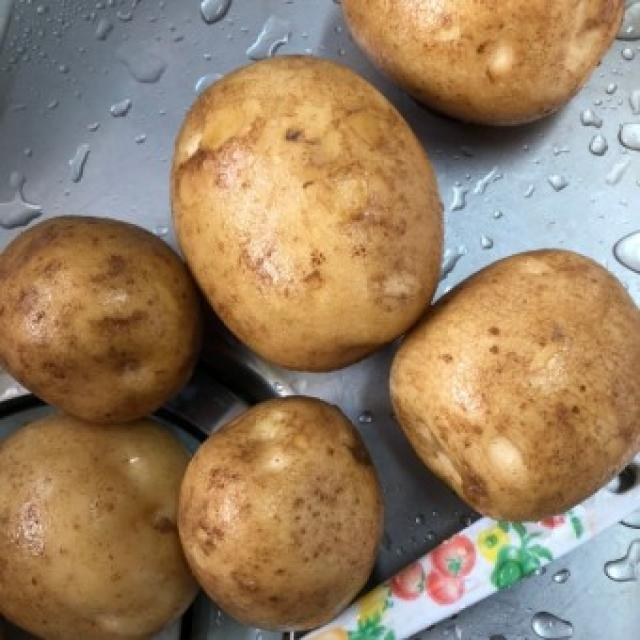potato: (168, 49, 442, 371), (384, 245, 640, 532), (179, 390, 397, 634), (2, 392, 210, 640), (0, 210, 194, 424), (335, 0, 640, 131)
